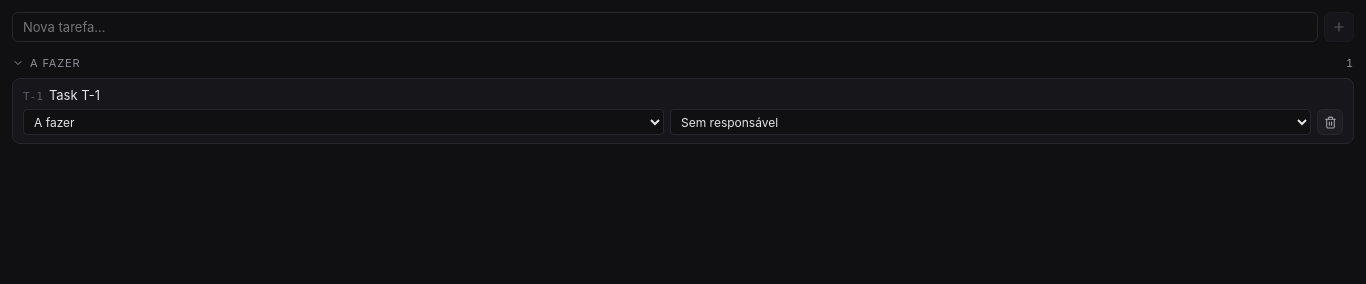
TasksPanel › Given the panel, when creating, moving, assigning and deleting tasks, then each action reaches the store
This screenshot has width=1366, height=284.
Check: the text "Task T-1" is shown, box [49,87,100,103]
Type "Write docs" into the field labelled "Nova tarefa…" at (665, 27), box [12,12,1318,42]
Then press Enter
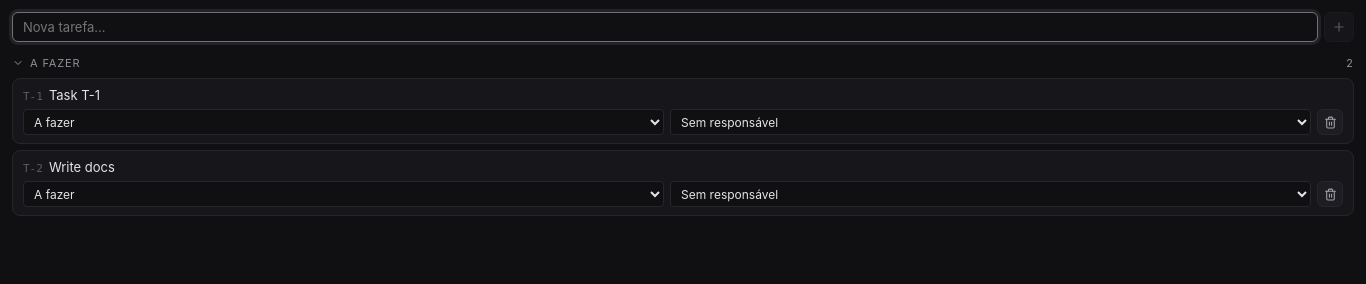
Check: the text "Write docs" is shown, box [49,159,115,175]
Select "Bloqueada" in the 1st dropdown named "Status" at (344, 122), box [23,109,664,135]
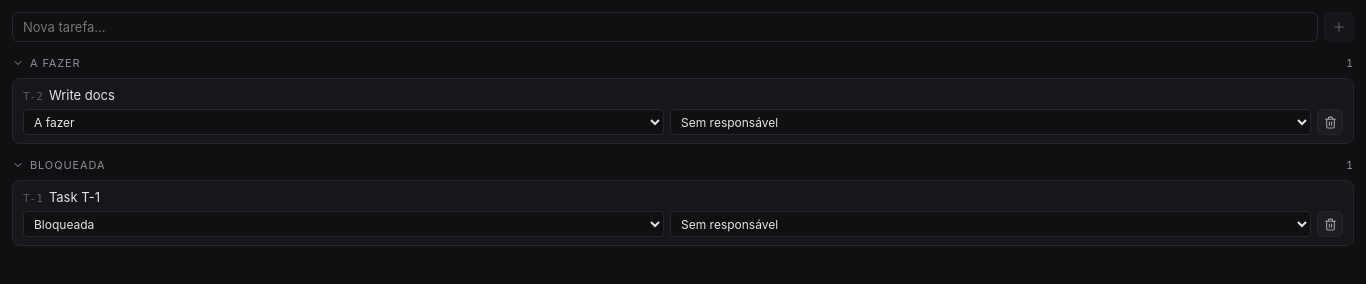
Check: the element "Bloqueada" shows "Task T-1", box [23,189,1343,205]
Select "Vega" in the 2nd dropdown named "Responsável" at (990, 224), box [670,211,1311,237]
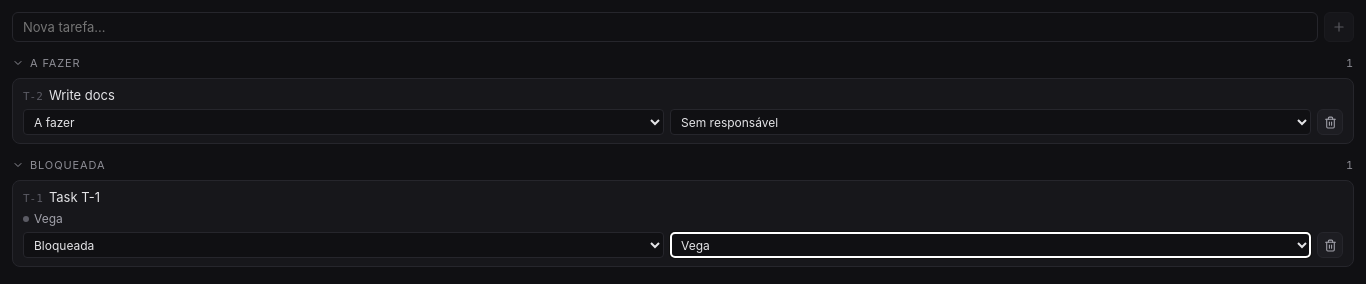
Click the button named "Excluir a tarefa T-2" at (1330, 122), box [1317,109,1343,135]
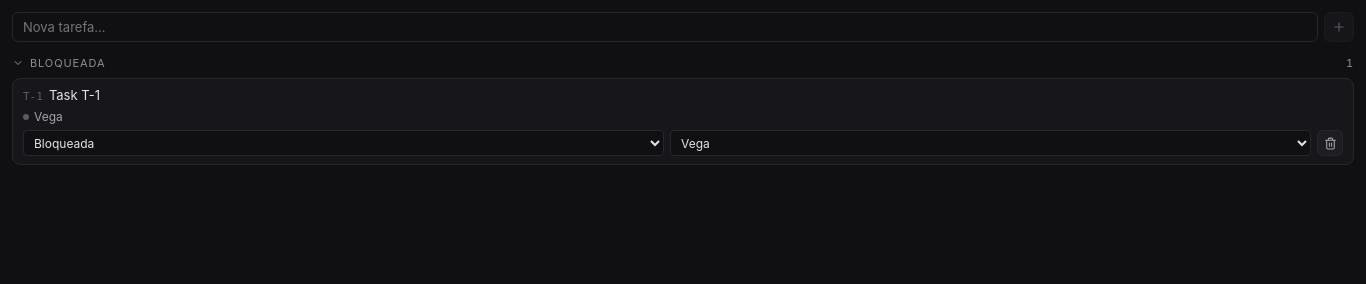
Check: the button "Write docs" is gone
